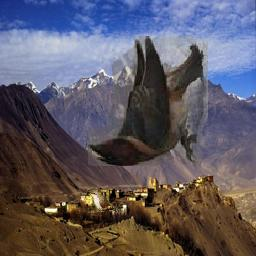Cuckoo: (89, 190, 119, 212)
Swallow: (88, 36, 208, 166)
